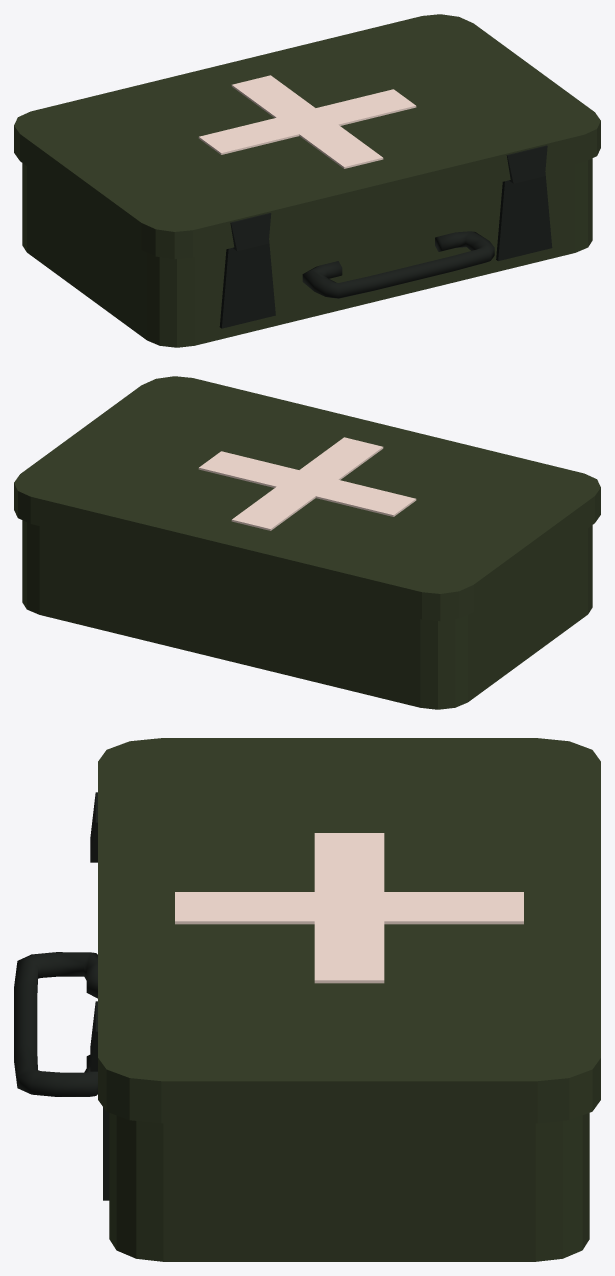
File: MidKit_02.fbx
The picture shows the model from 3 angles, top to bottom: view 1: azimuth 30°, elevation 25°; view 2: azimuth 150°, elevation 25°; view 3: azimuth 270°, elevation 25°; orthographic projection. The views are drawn at different scales.
Visible parts, largest first — view 1: MidKit_02_p2, MidKit_02_p1; view 2: MidKit_02_p2, MidKit_02_p1; view 3: MidKit_02_p2, MidKit_02_p1.
Part boxes in pixels (x1,y1,x2,y2): MidKit_02_p2: (14, 14, 600, 259); MidKit_02_p1: (22, 158, 592, 347); MidKit_02_p2: (14, 376, 600, 621); MidKit_02_p1: (22, 520, 592, 709); MidKit_02_p2: (90, 738, 600, 1123); MidKit_02_p1: (14, 952, 589, 1261).
Size of the model in its own units: 85.55 by 21.89 by 61.86.
